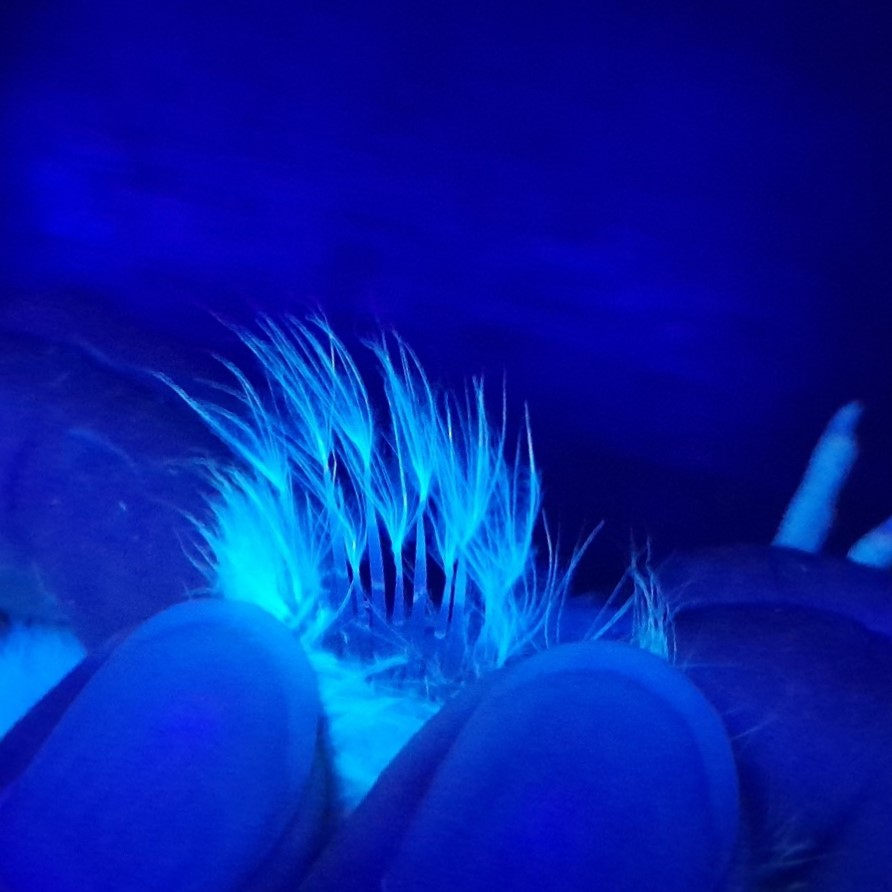male: (283, 449, 546, 726)
